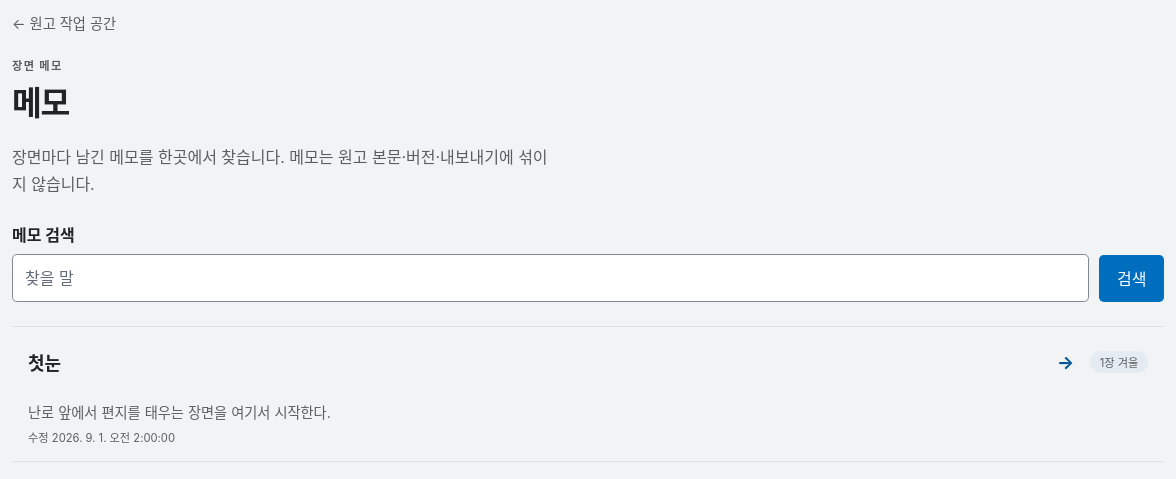
Test: 장면 메모 화면 › says the search found nothing without pretending the project has no notes
This screenshot has width=1176, height=479.
Check: the link "첫눈 →" is shown, box [28,352,1074,374]
Type "없는말" into the search field labelled "메모 검색".
click(550, 278); type("없는말")  # box [12,254,1089,302]
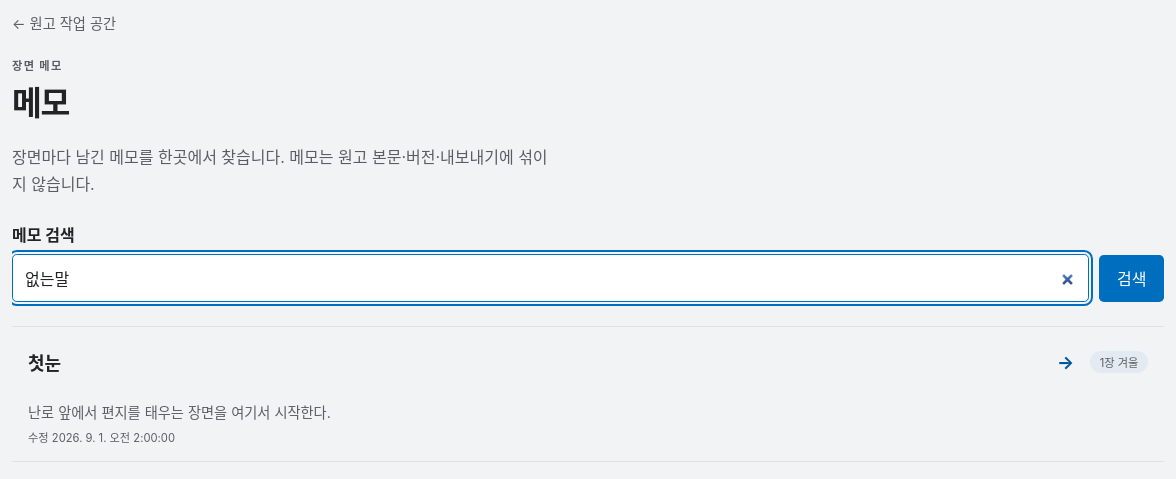
Click the button "검색".
click(1132, 278)  # box [1099,255,1164,302]
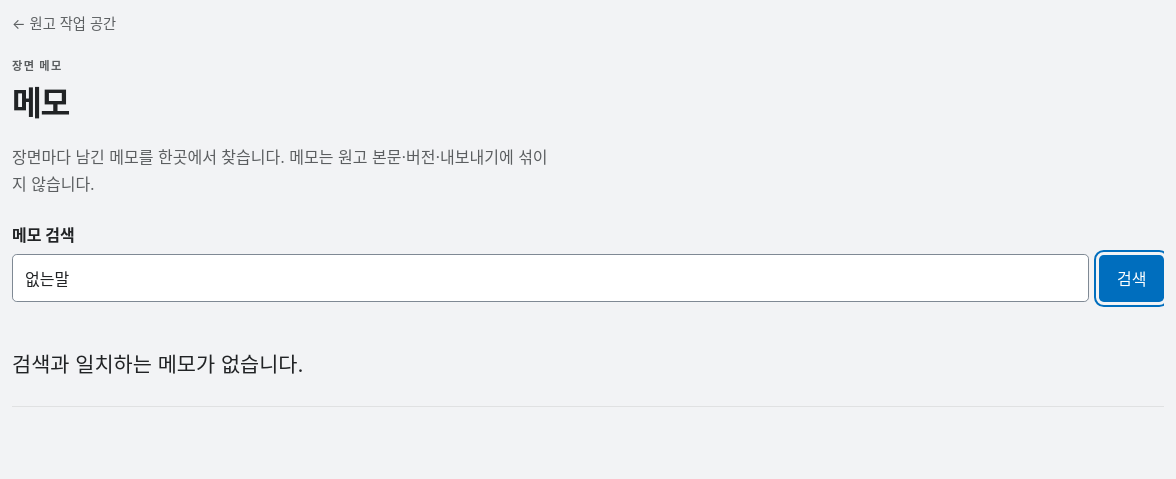
Check: the text "검색과 일치하는 메모가 없습니다." is shown, box [12,352,303,377]
